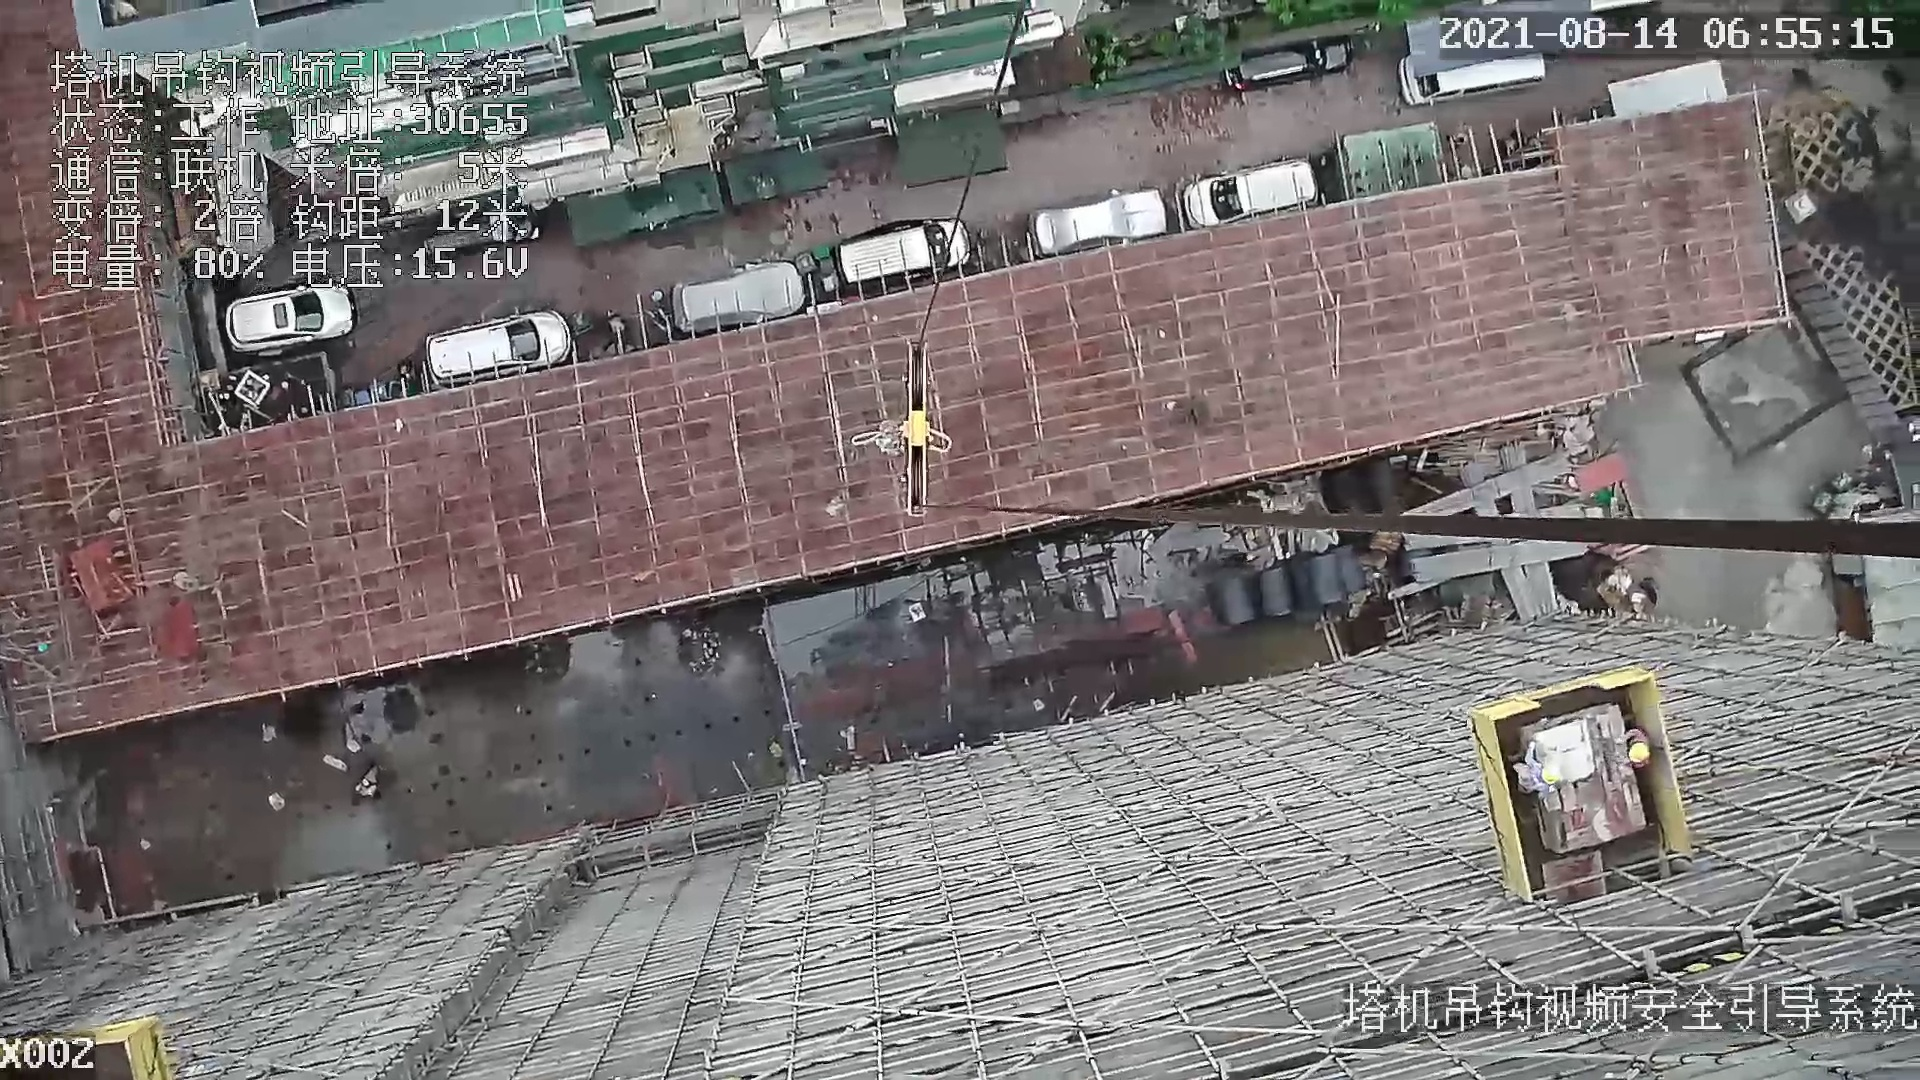board: (1521, 703, 1648, 856)
helmet: (1629, 743, 1648, 763), (1542, 765, 1559, 783)
hook: (909, 332, 953, 530)
person: (1509, 742, 1568, 800), (1617, 726, 1649, 764)
rebar: (1405, 453, 1570, 515), (1400, 541, 1589, 583), (1495, 569, 1538, 617), (1521, 563, 1561, 613)
